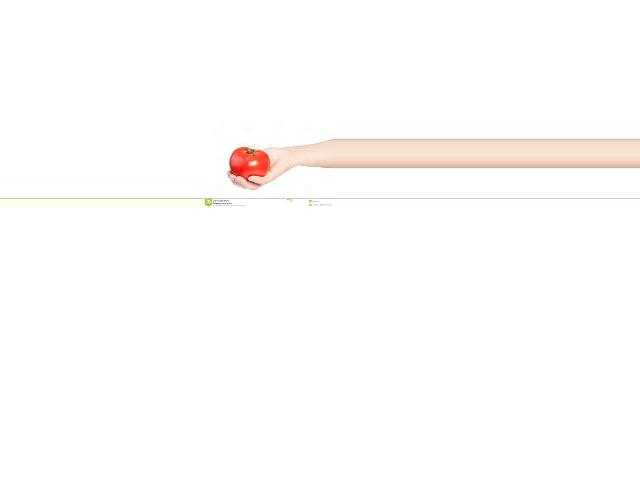tomato: (229, 146, 271, 180)
